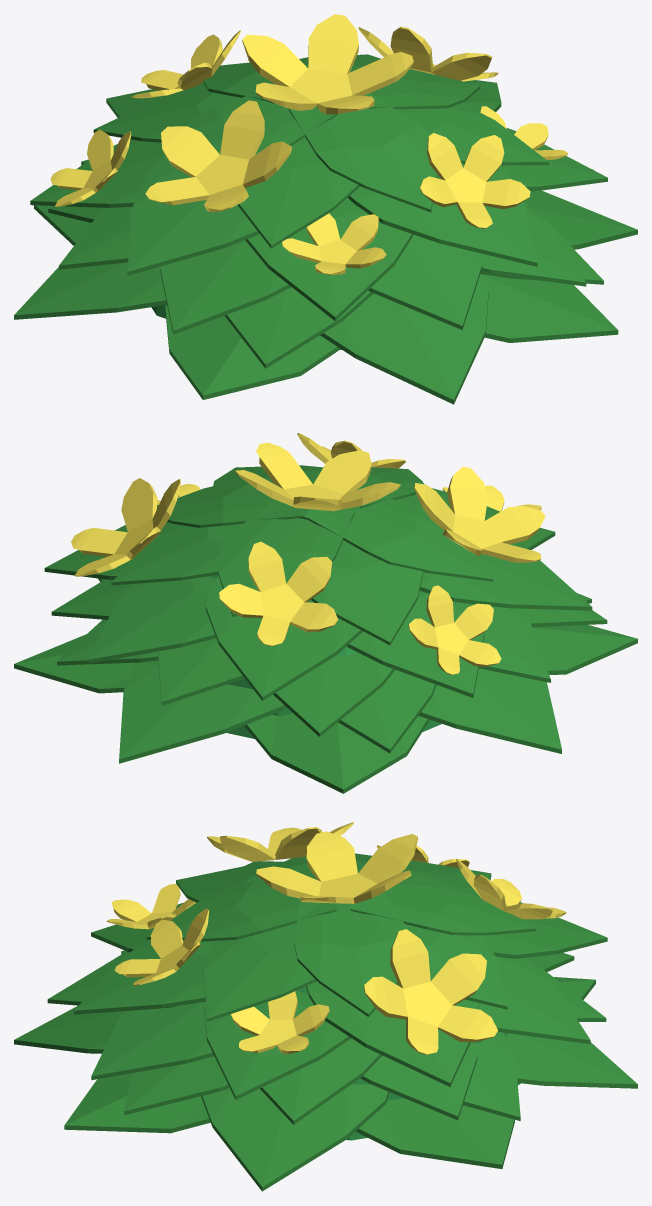
The model's file is BushYellowFlowers.fbx.
3 renders of one model, top to bottom at view 1: azimuth 30°, elevation 25°; view 2: azimuth 150°, elevation 25°; view 3: azimuth 270°, elevation 25°, orthographic. The views are drawn at different scales.
Parts seen in each view (by area): view 1: BushYellowFlowers; view 2: BushYellowFlowers; view 3: BushYellowFlowers.
Boxes of the visible parts, bbox=[...] form: BushYellowFlowers: bbox=[14, 14, 637, 404]; BushYellowFlowers: bbox=[14, 433, 637, 793]; BushYellowFlowers: bbox=[14, 822, 637, 1191].
Bounding box in the file's own units: 991 × 373 × 999.
